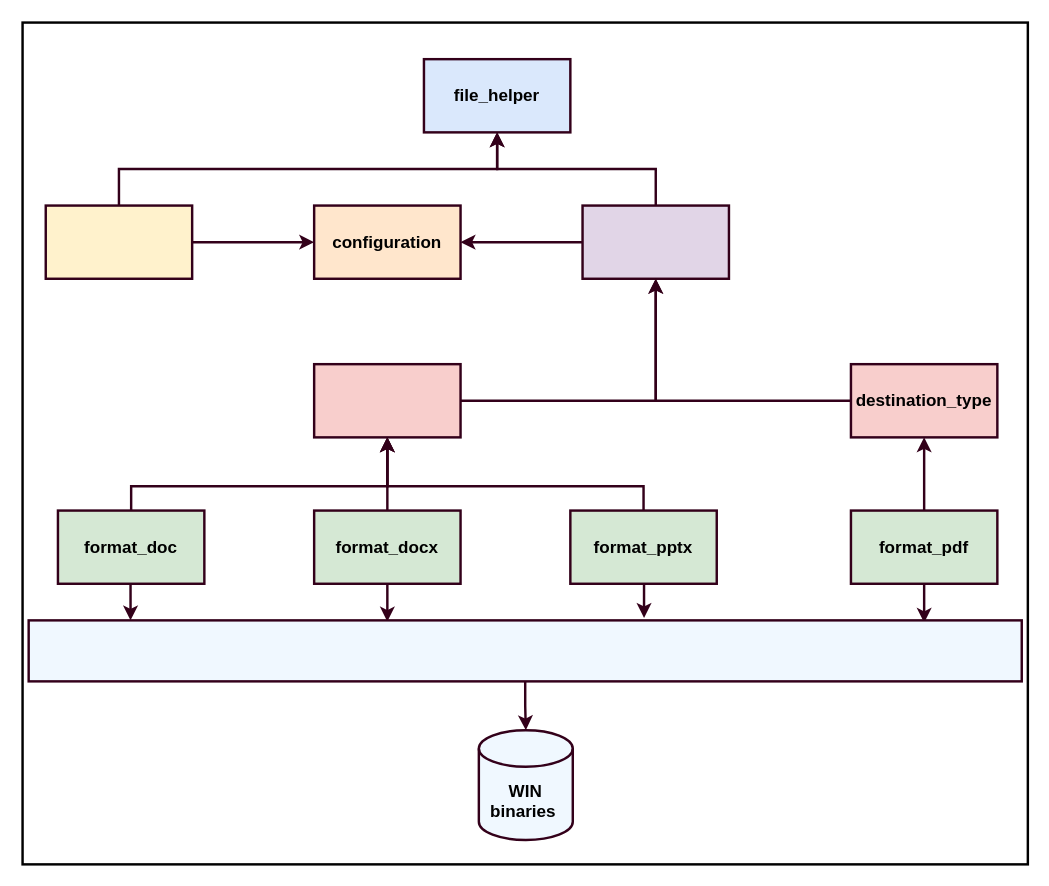
Some shapes in this 1049 by 886 pixel diagram are drawn without their labels. The centre of each missing label's shape, as x and y in pixels:
"argument_parser" goes at pixel 118 241.
"COM inteface" goes at pixel 524 650.
"pdf_merge" goes at pixel 655 241.
"source_type" goes at pixel 386 400.
